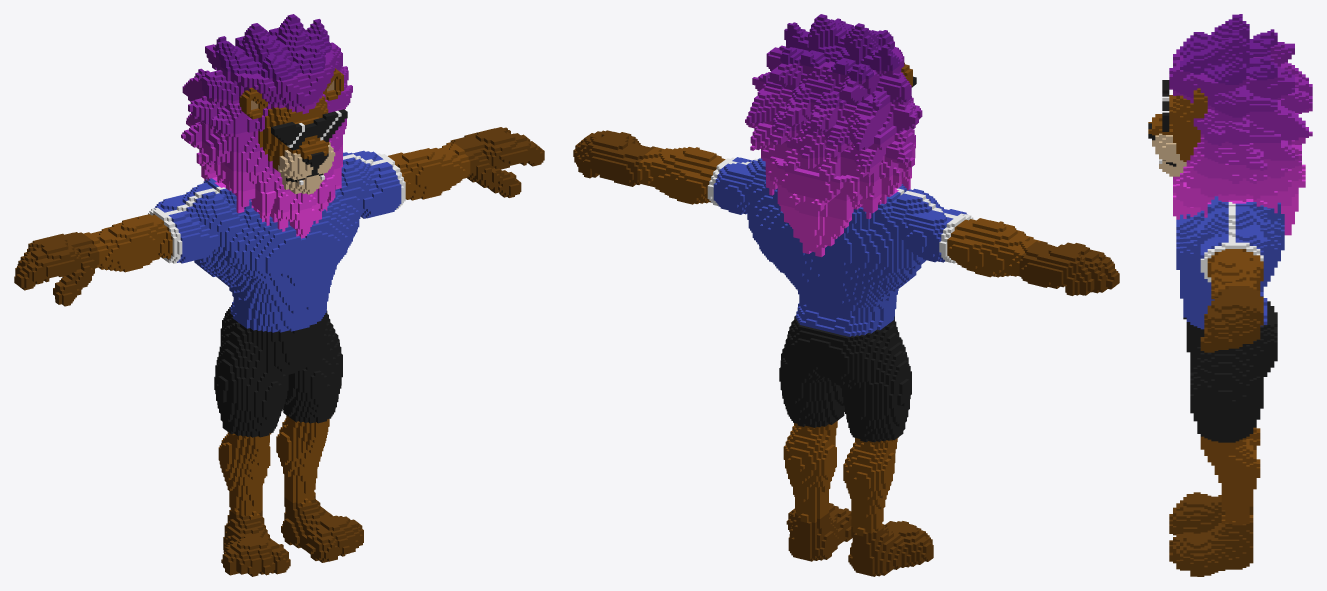
3 views of the same model, side by side, from view 1: azimuth 30°, elevation 25°; view 2: azimuth 150°, elevation 25°; view 3: azimuth 270°, elevation 25° (orthographic). The views are drawn at different scales.
Visible parts, largest first — view 1: standard; view 2: standard; view 3: standard.
Boxes of the visible parts, x1,y1,x2,y2 form: standard: [14, 14, 544, 576]; standard: [573, 14, 1119, 576]; standard: [1148, 14, 1312, 576].
Bounding box in the file's own units: 17.2 × 16.5 × 4.7.
Materials: 5 (5 with a texture image).
